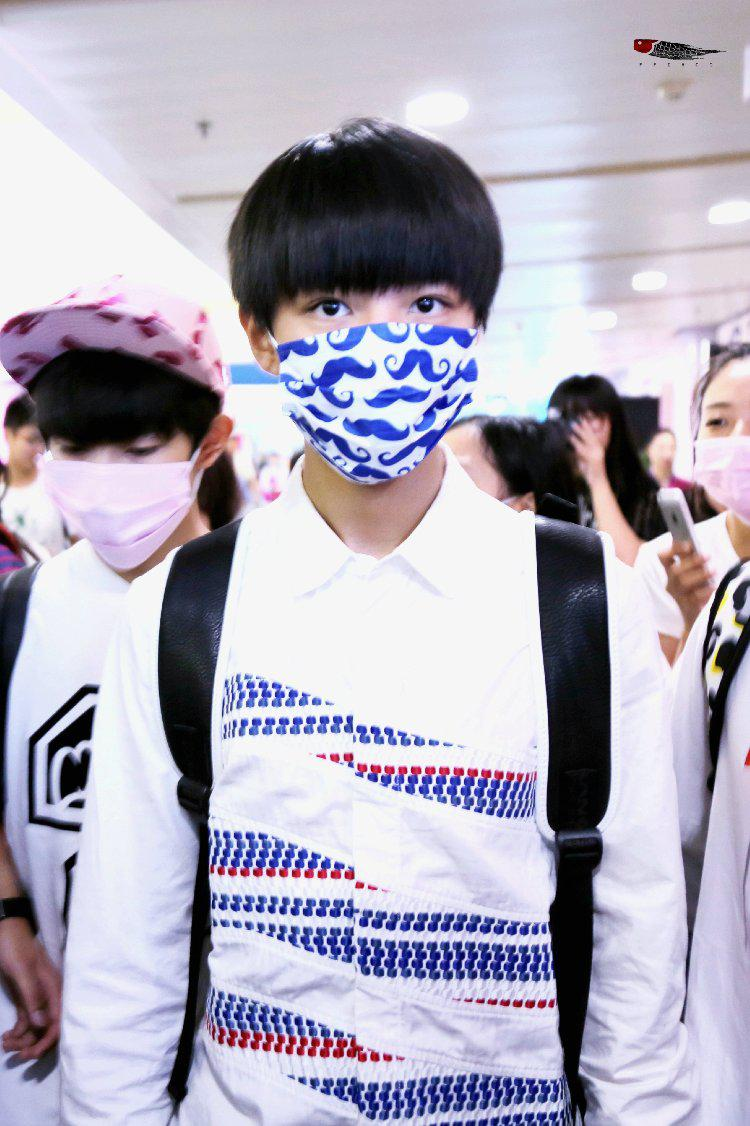NONE: (9, 424, 54, 469)
OK: (281, 268, 488, 475), (47, 416, 192, 561), (697, 399, 750, 534)
